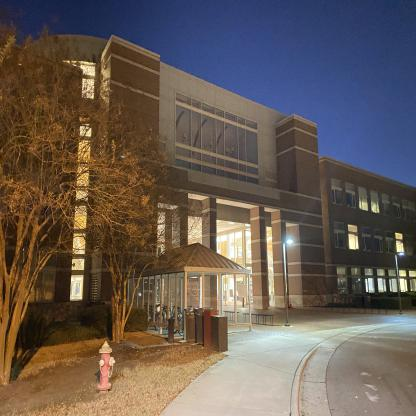eb2: (10, 35, 416, 312)
